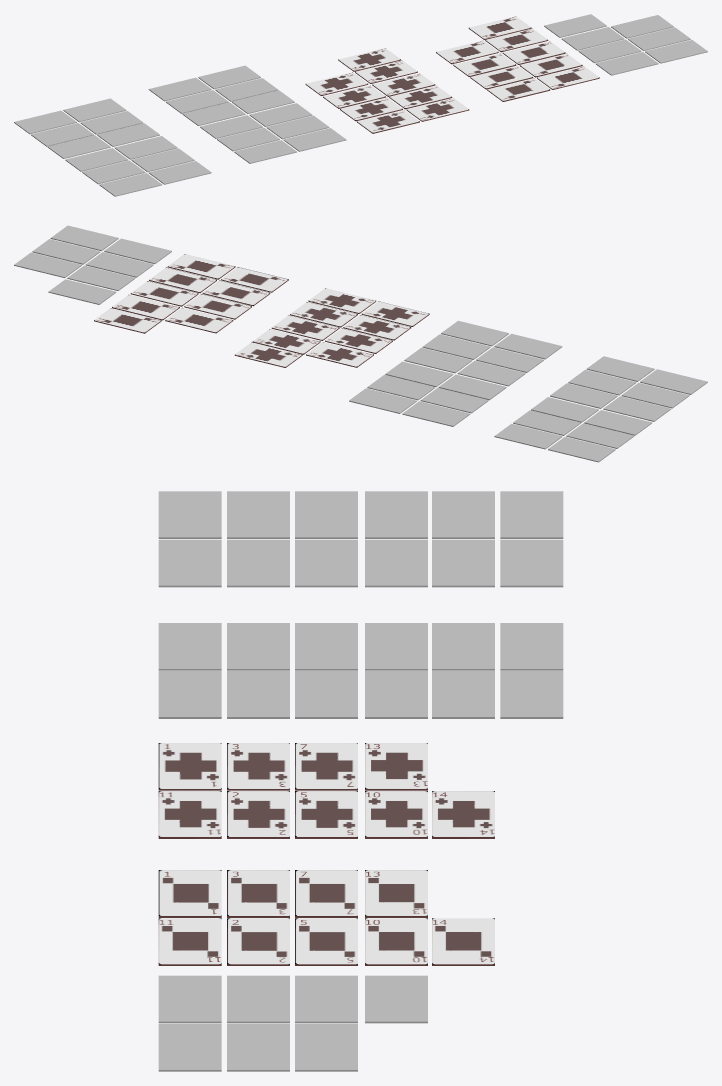
Rendered from card.dae.
3 views of the same model, one above another, from view 1: azimuth 30°, elevation 25°; view 2: azimuth 150°, elevation 25°; view 3: azimuth 270°, elevation 25° (orthographic). The views are drawn at different scales.
Parts seen in each view (by area): view 1: box 2, box 7, cross 11, cross 5.001, circle 4, Circle 8, star 5, star 1, box 3, box 1, box 14, box 13 (+37 smaller); view 2: box 13, box 5, cross 11, Traingle 1, circle 5, star 8, star 7, star 1, box 2, box 1, box 14, cross 10 (+37 smaller); view 3: star 1, triangle 12, triangle 8, star 8, star 5, star 3, triangle 11, triangle 7, Trinagle 4, Triangle 2, star 7, box 1 (+37 smaller).
Part boxes in pixels (left/top/right/bottom): box 2: left=519, top=53, right=582, bottom=77; box 7: left=453, top=53, right=516, bottom=76; cross 11: left=406, top=98, right=469, bottom=121; cross 5.001: left=372, top=73, right=435, bottom=96; circle 4: left=249, top=103, right=312, bottom=126; Circle 8: left=283, top=128, right=346, bottom=151; star 5: left=561, top=27, right=624, bottom=50; star 1: left=595, top=52, right=658, bottom=75; box 3: left=470, top=66, right=533, bottom=89; box 1: left=487, top=78, right=550, bottom=101; box 14: left=468, top=16, right=531, bottom=39; box 13: left=436, top=40, right=498, bottom=64; box 13: left=165, top=307, right=233, bottom=333; box 5: left=130, top=281, right=198, bottom=306; cross 11: left=308, top=288, right=376, bottom=313; Traingle 1: left=640, top=369, right=707, bottom=394; circle 5: left=457, top=360, right=525, bottom=386; star 8: left=48, top=279, right=116, bottom=304; star 7: left=50, top=225, right=118, bottom=251; star 1: left=104, top=238, right=171, bottom=263; box 2: left=149, top=267, right=216, bottom=292; box 1: left=221, top=267, right=288, bottom=292; box 14: left=94, top=308, right=161, bottom=333; cross 10: left=252, top=329, right=320, bottom=354; star 1: left=158, top=975, right=221, bottom=1023; triangle 12: left=500, top=539, right=563, bottom=587; triangle 8: left=158, top=539, right=221, bottom=587; star 8: left=365, top=975, right=427, bottom=1023; star 5: left=295, top=975, right=357, bottom=1023; star 3: left=227, top=975, right=289, bottom=1023; triangle 11: left=432, top=539, right=494, bottom=587; triangle 7: left=365, top=539, right=427, bottom=587; Trinagle 4: left=295, top=539, right=357, bottom=587; Triangle 2: left=227, top=539, right=289, bottom=587; star 7: left=158, top=1024, right=221, bottom=1071; box 1: left=158, top=870, right=221, bottom=917.
Bounding box in the file's own units: 10.09 × 2.98 × 0.0144.
